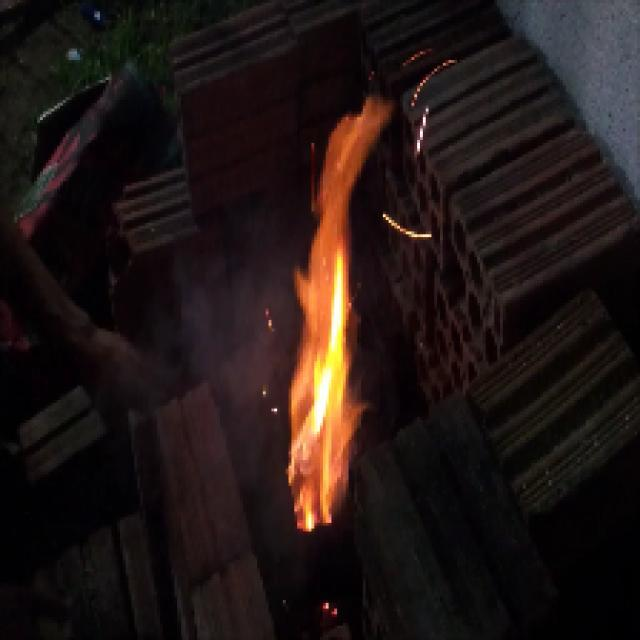Fire: (283, 100, 392, 529)
Smoke: (177, 243, 283, 468)
